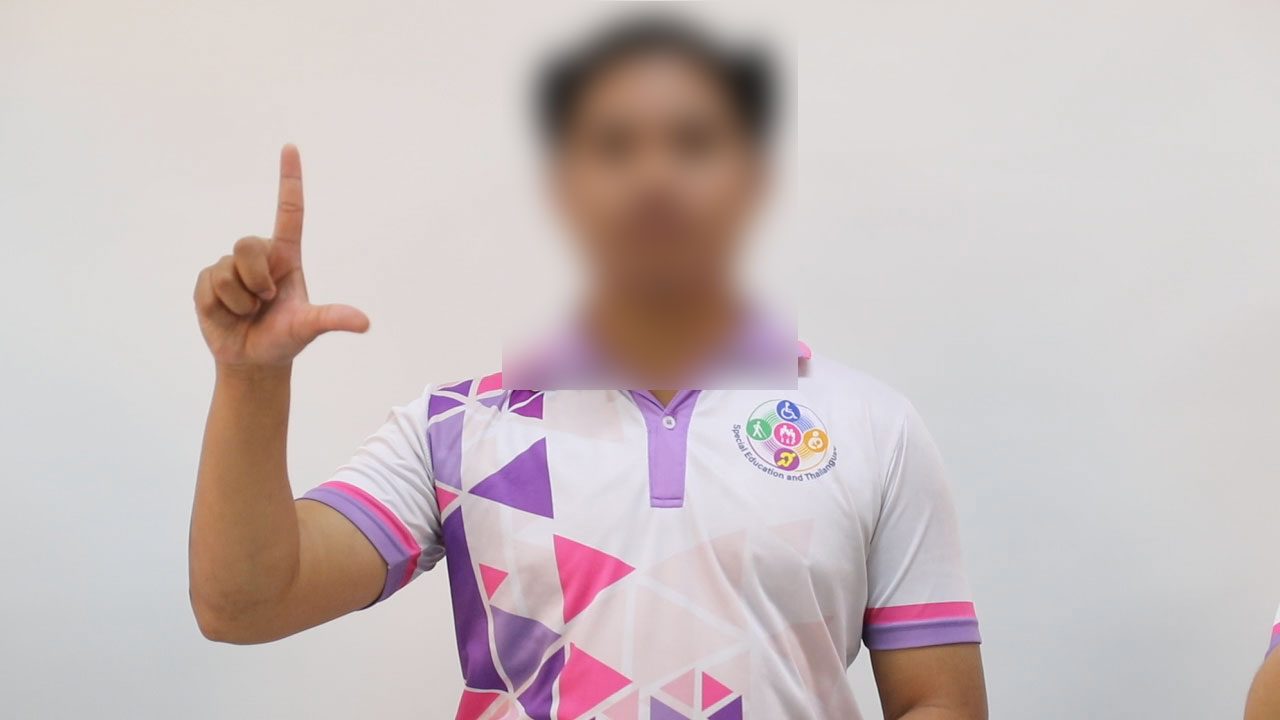lor: (174, 133, 396, 385)
